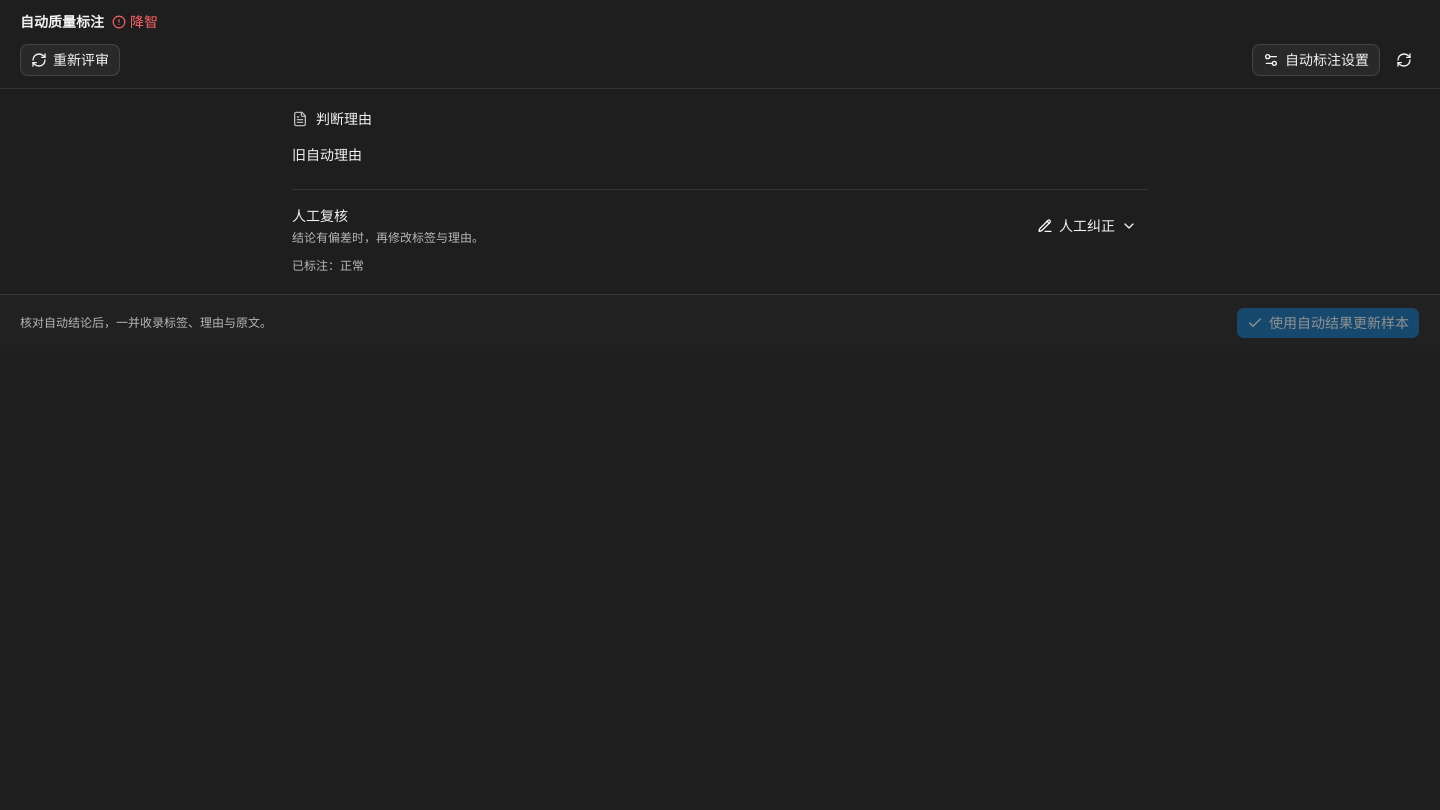
Test: 复核启动失败时提示原因并保留原自动结果供重试
Click the button "重新评审".
click(70, 60)  # box [20,44,120,76]
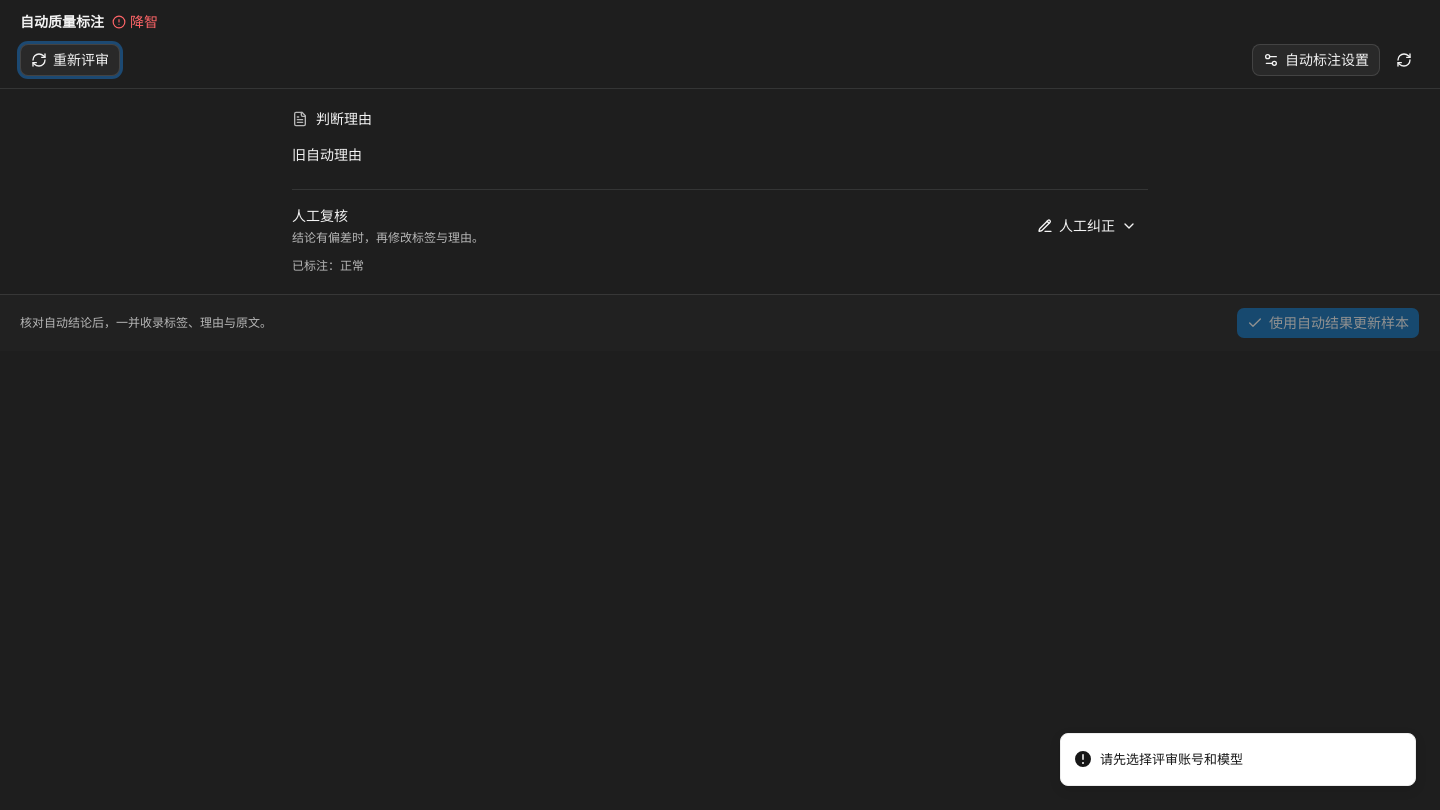
Expected: the text "旧自动理由" is shown, [292,147,362,163]
Now the text "请先选择评审账号和模型" is shown, box [1100,750,1243,769]
